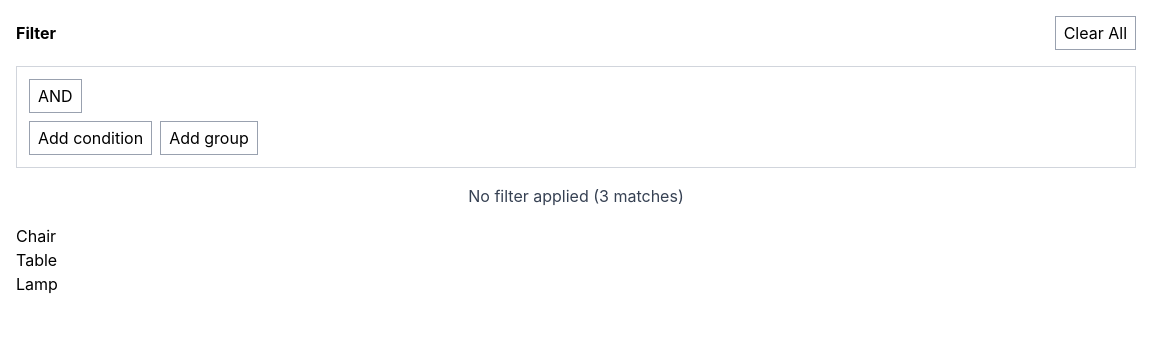
Test case: FilterBuilder › resets the tree to an empty root group when "Clear All" is clicked
Click the button "Add condition".
click(91, 138)  # box top-left (29, 121), bottom-right (152, 155)
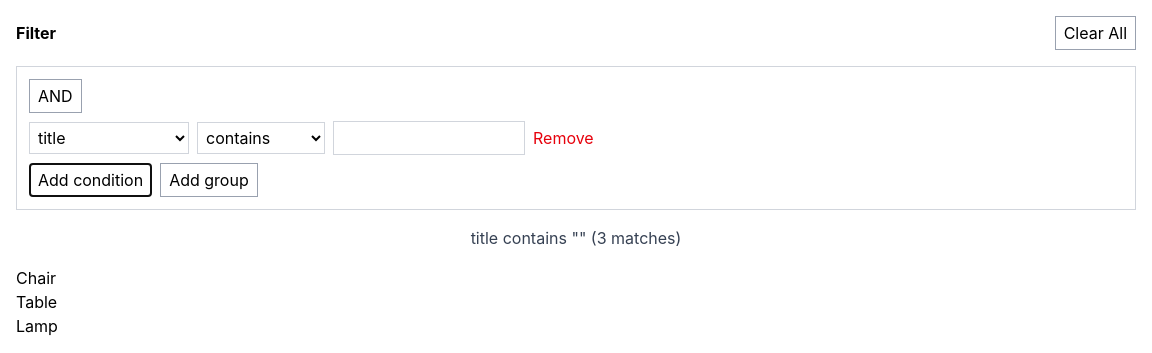
Result: the button with aria-label "Remove condition" is shown at top-left (533, 126), bottom-right (594, 150)
Click the button with aria-label "Clear all filters".
click(1095, 33)  # box top-left (1055, 16), bottom-right (1136, 50)
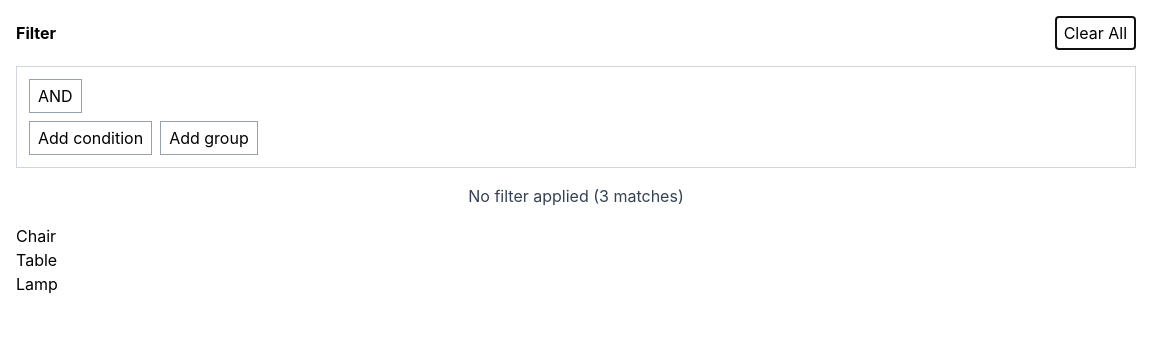
Result: the text "No filter applied (3 matches)" is shown at top-left (468, 186), bottom-right (684, 206)
